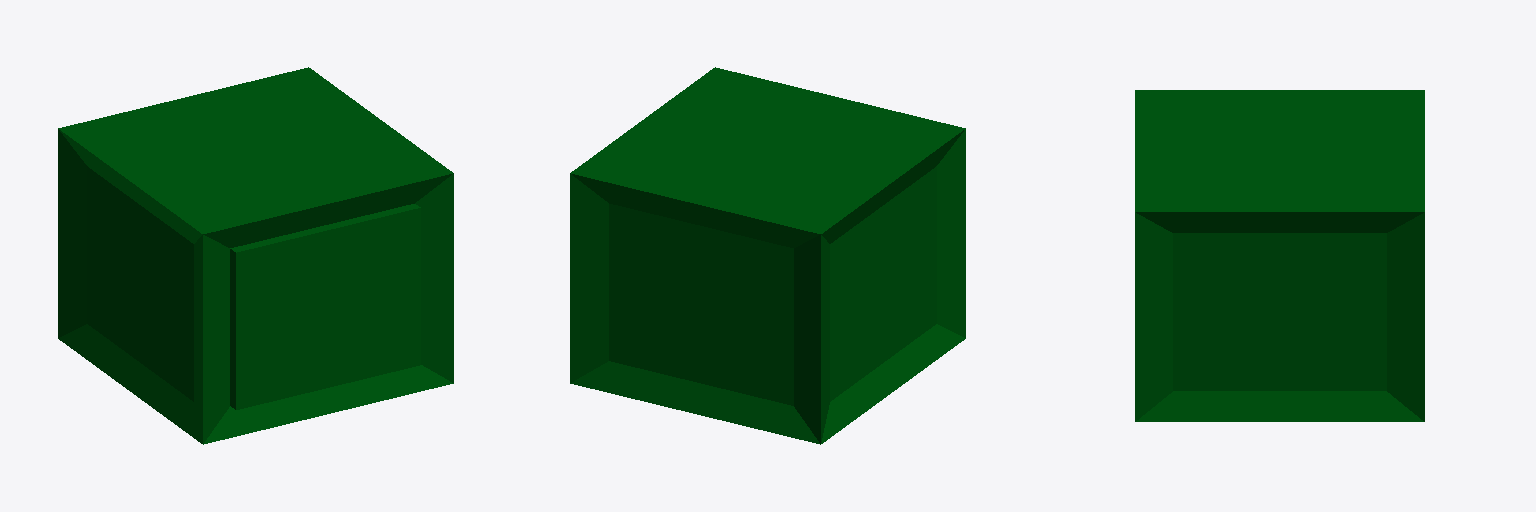
Rendered from InputSensor.obj.
3 renders of one model, left to right at view 1: azimuth 30°, elevation 25°; view 2: azimuth 150°, elevation 25°; view 3: azimuth 270°, elevation 25°, orthographic.
Parts seen in each view (by area): view 1: Handle1; view 2: Handle1; view 3: Handle1.
Boxes of the visible parts, box(x1,y1,x2,y2) form: Handle1: box(58, 67, 453, 444); Handle1: box(570, 67, 965, 444); Handle1: box(1135, 90, 1424, 421).
Bounding box in the file's own units: 0.6 × 0.48 × 0.6.